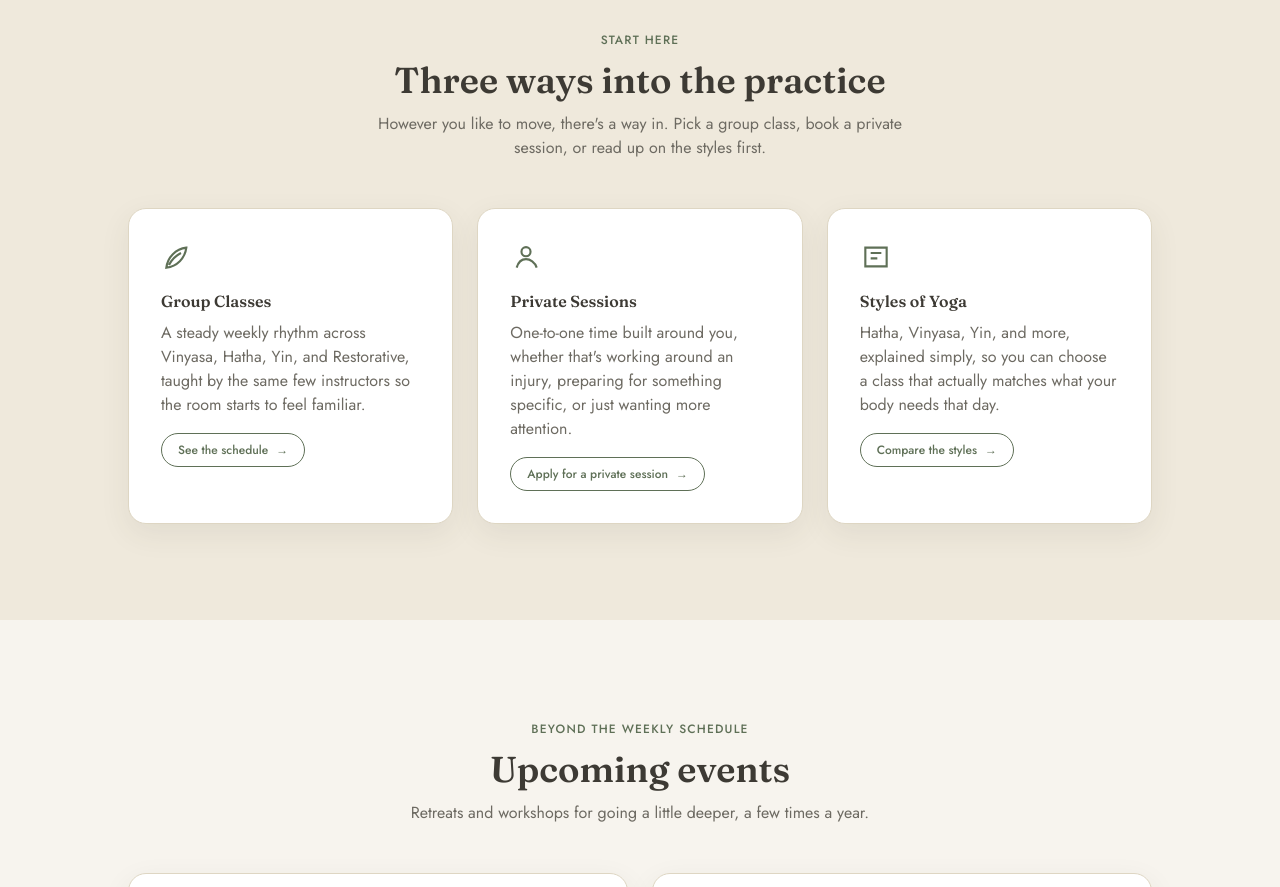
Test: Cross-page user flows › lets a visitor browse styles of yoga then jump to the schedule
(page scrolled)
Click the link "Compare the styles →": (937, 450) [860,433,1014,467]
(page scrolled)
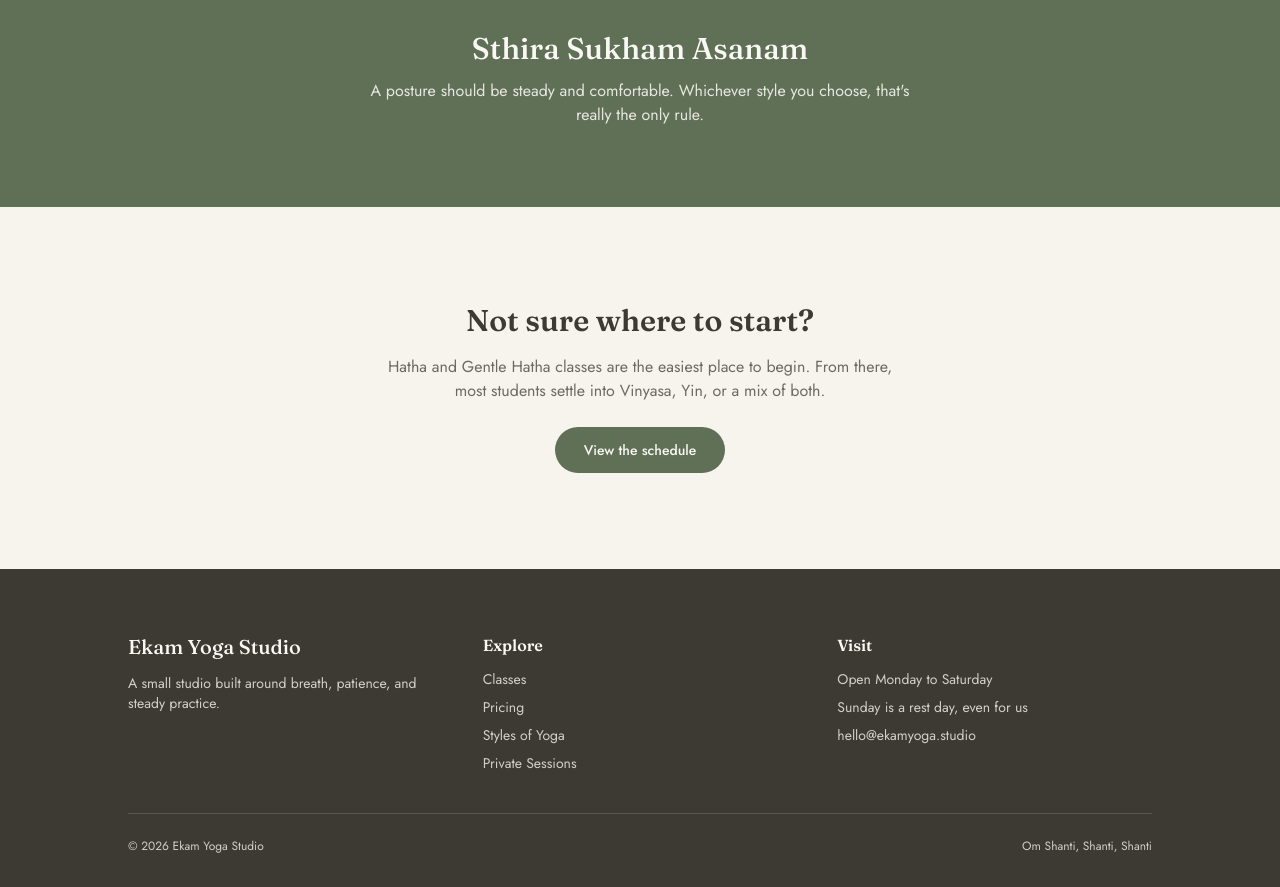
Click the link "View the schedule": (640, 450) [555,427,725,473]
(page scrolled)
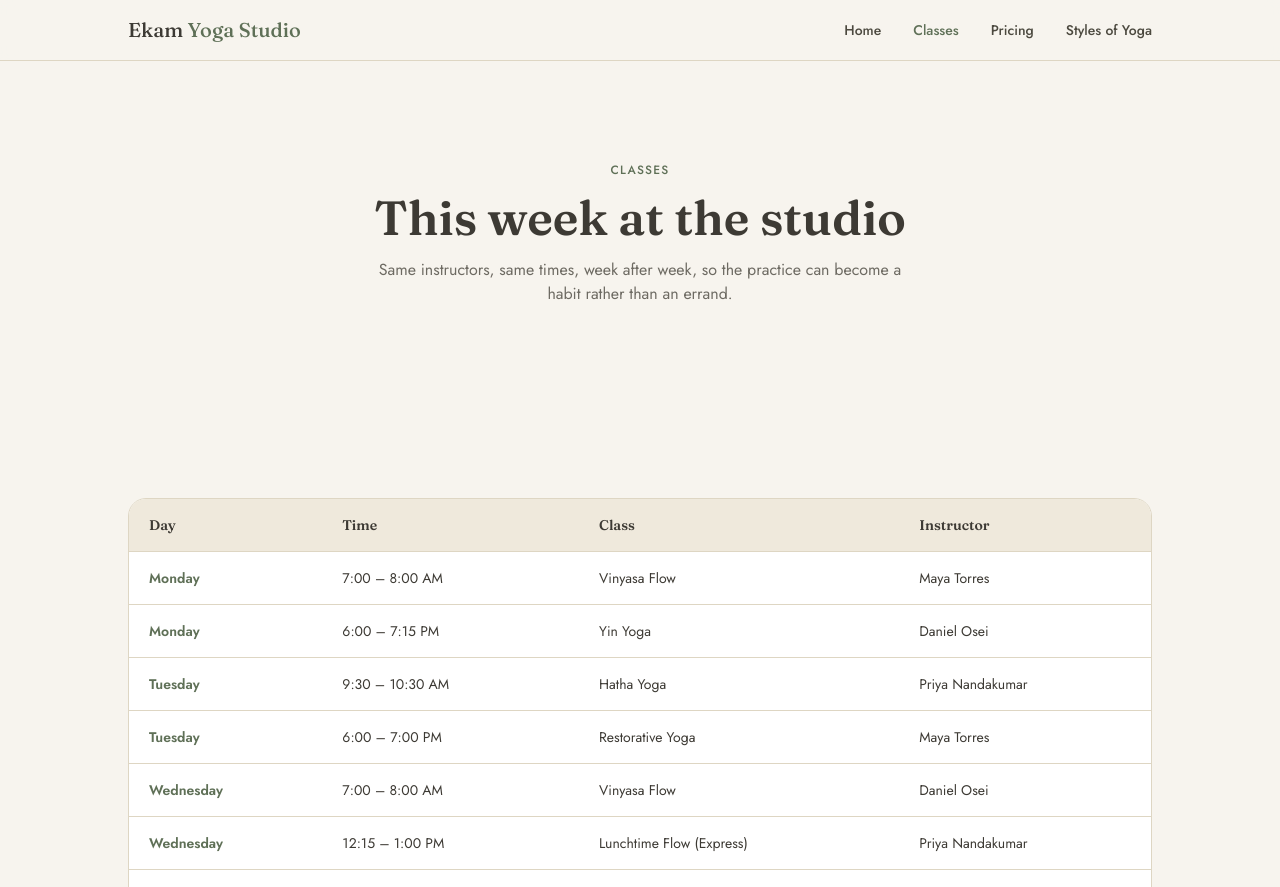
expect the heading "This week at the studio" is shown: met, box [374,188,906,247]
